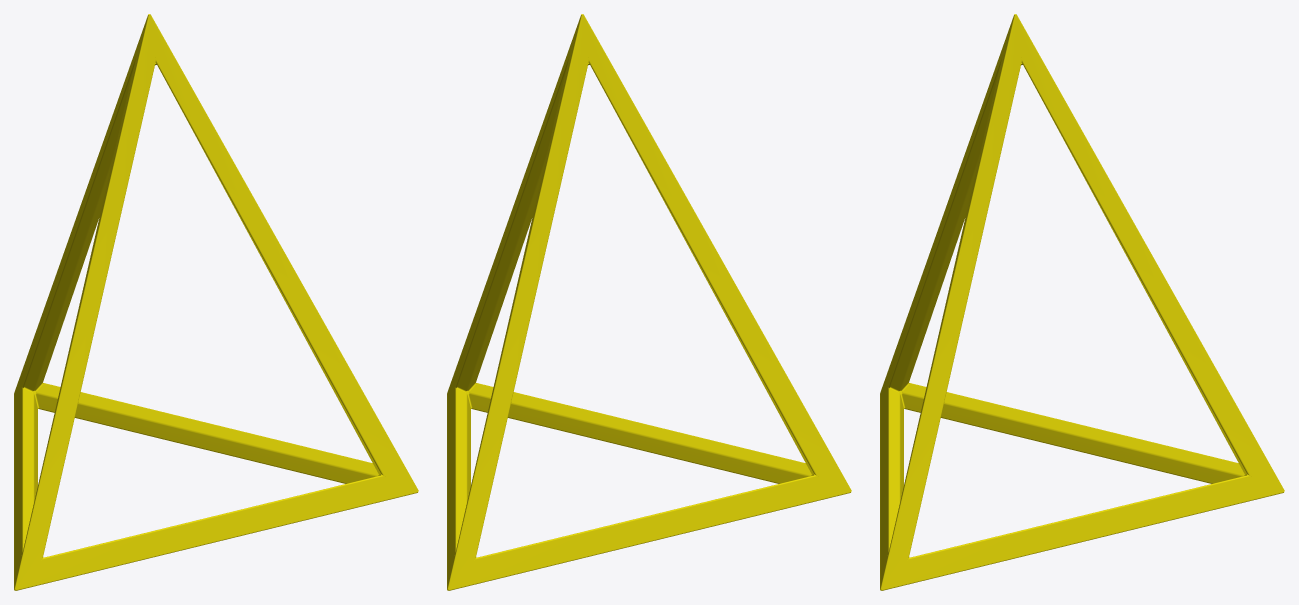
The model's file is cone-yellow.glb.
3 renders of one model, left to right at view 1: azimuth 30°, elevation 25°; view 2: azimuth 150°, elevation 25°; view 3: azimuth 270°, elevation 25°, orthographic.
Visible parts, largest first — view 1: Cone-green; view 2: Cone-green; view 3: Cone-green.
Part boxes in pixels (<box>): Cone-green: <box>14,14,418,590</box>; Cone-green: <box>447,14,851,590</box>; Cone-green: <box>880,14,1284,590</box>.
Size of the model in its own units: 1.86 by 2.1 by 1.61.
